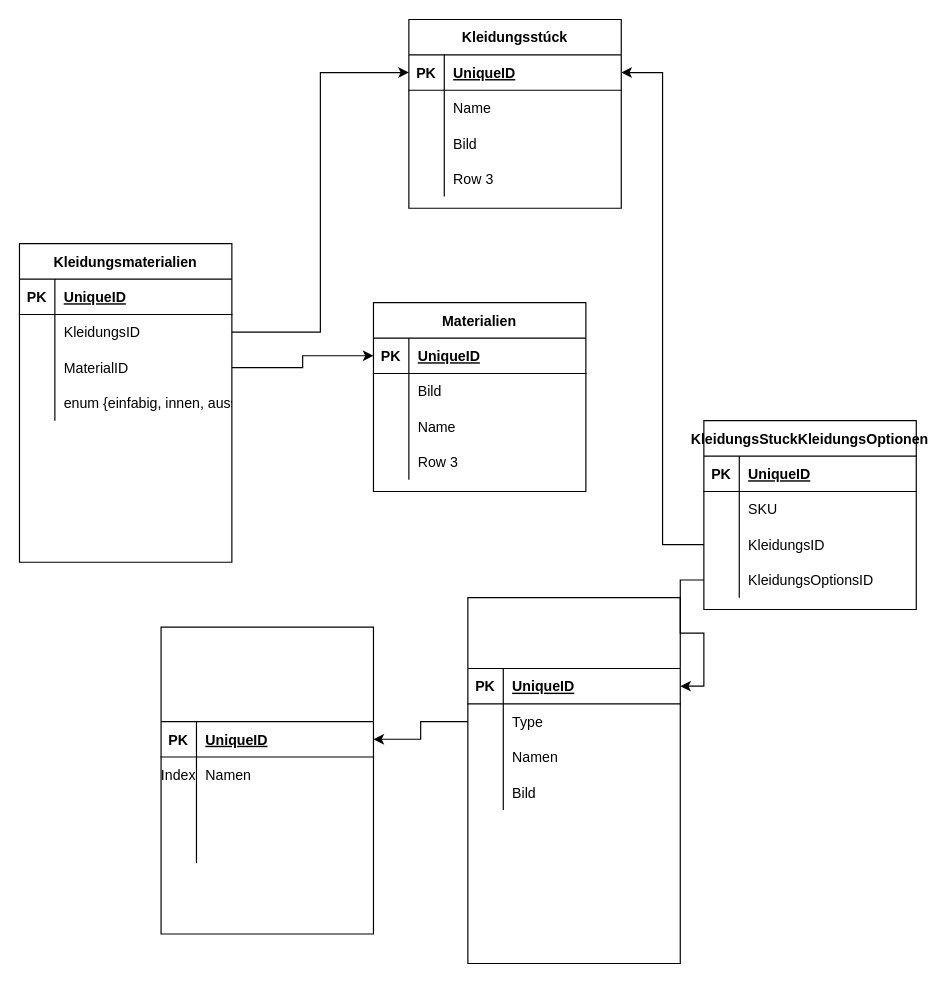
Image size: 948x983. Some labels were removed from this diagram. The shapes that lost their labels are listed below. From the top down, each one's box as (x1, y1, x2, y2) in pixels, then its label:
(160, 626, 373, 934): Steps Collar / cuff / front
(467, 596, 680, 963): Kleidungsoptionen Business classic button down classic
